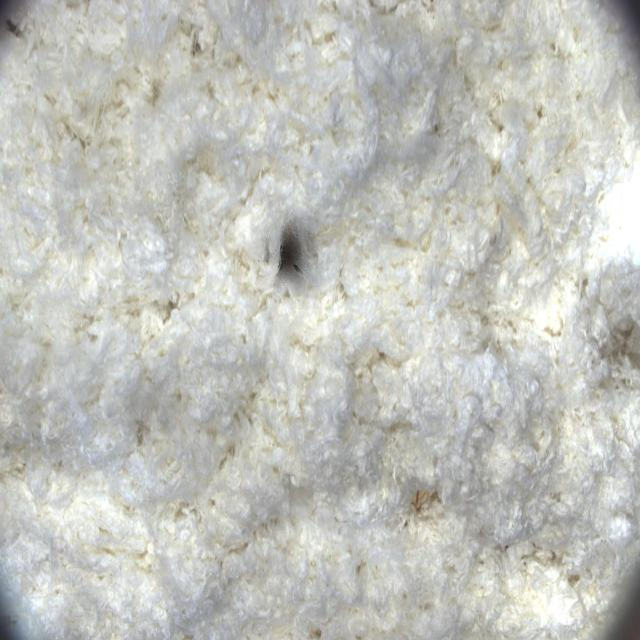dust: (248, 197, 340, 310)
